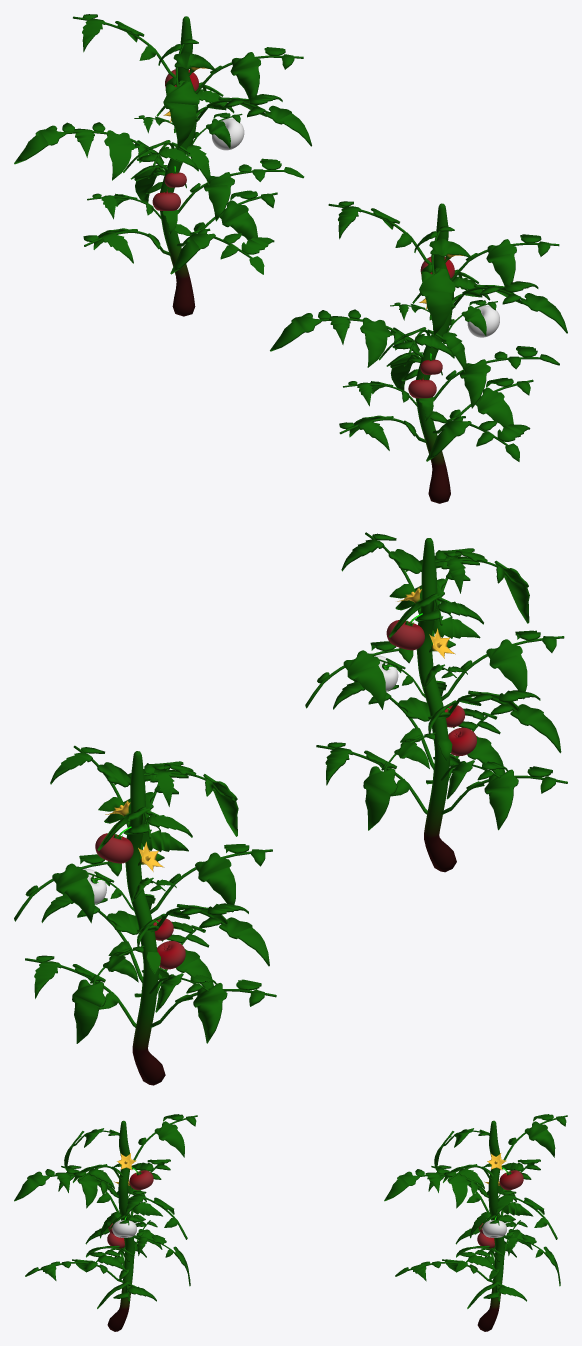
The model's file is Paradajz_BiljkaTextura.fbx.
3 renders of one model, top to bottom at view 1: azimuth 30°, elevation 25°; view 2: azimuth 150°, elevation 25°; view 3: azimuth 270°, elevation 25°, orthographic. The views are drawn at different scales.
Parts seen in each view (by area): view 1: Cube.040, Cube.014, Cube, Cube.025, Cube.017, Cube.016, Cube.021, Cube.002, Cube.019, Cube.024, Cube.026, Cube.020 (+2 smaller); view 2: Cube.040, Cube, Cube.014, Cube.018, Cube.020, Cube.010, Cube.026, Cube.025, Cube.021, Cube.002, Cube.016, Cube.019 (+4 smaller); view 3: Cube.040, Cube, Cube.021, Cube.024, Cube.014, Cube.016, Cube.010, Cube.017, Cube.018, Cube.002, Cube.019, Cube.025 (+4 smaller).
Boxes of the visible parts, box(x1,y1,x2,y2) form: Cube.040: box(270, 201, 567, 503); Cube.014: box(14, 122, 167, 180); Cube: box(160, 16, 198, 316); Cube.025: box(158, 39, 216, 148); Cube.017: box(170, 228, 274, 274); Cube.016: box(178, 158, 304, 221); Cube.021: box(195, 94, 311, 146); Cube.002: box(194, 47, 303, 100); Cube.019: box(193, 190, 277, 239); Cube.024: box(73, 14, 175, 77); Cube.026: box(83, 228, 170, 263); Cube.020: box(123, 140, 198, 172); Cube.040: box(305, 532, 567, 872); Cube: box(125, 751, 165, 1085); Cube.014: box(137, 903, 269, 966); Cube.018: box(72, 945, 144, 1043); Cube.020: box(150, 844, 272, 913); Cube.010: box(14, 854, 127, 923); Cube.026: box(150, 979, 276, 1043); Cube.025: box(144, 763, 238, 836); Cube.021: box(104, 761, 188, 864); Cube.002: box(50, 745, 130, 827); Cube.016: box(41, 892, 163, 982); Cube.019: box(25, 955, 136, 1027); Cube.040: box(14, 1114, 197, 1331); Cube: box(477, 1120, 504, 1331); Cube.021: box(384, 1167, 488, 1208); Cube.024: box(503, 1114, 567, 1160); Cube.014: box(487, 1159, 540, 1222); Cube.016: box(456, 1245, 503, 1272); Cube.010: box(495, 1191, 557, 1239); Cube.017: box(395, 1259, 493, 1282); Cube.018: box(504, 1231, 560, 1286); Cube.002: box(443, 1164, 493, 1188); Cube.019: box(467, 1281, 526, 1308); Cube.025: box(434, 1128, 489, 1170).
Bounding box in the file's own units: 943 × 1109 × 2617.
